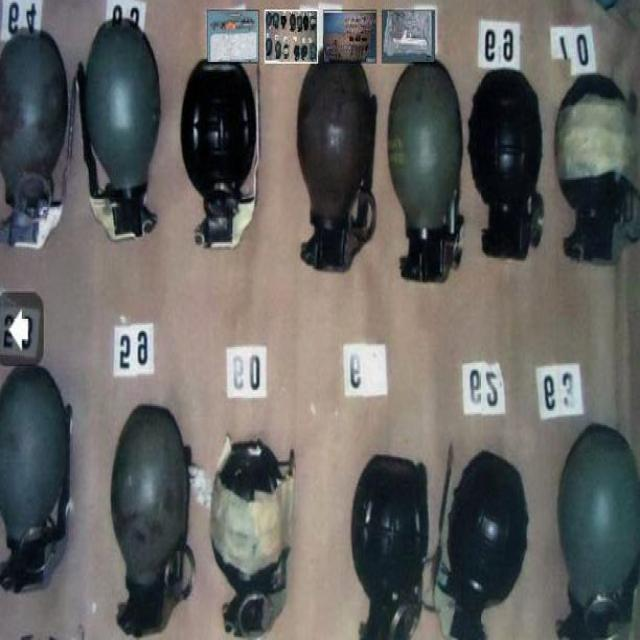grenade: (109, 401, 195, 640), (76, 23, 162, 245), (555, 423, 640, 640), (434, 448, 530, 640), (1, 361, 76, 600), (387, 60, 466, 283), (210, 439, 296, 639), (1, 30, 78, 250), (554, 73, 640, 267), (297, 63, 376, 273), (349, 453, 432, 640), (183, 59, 262, 253), (468, 70, 546, 258)
